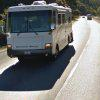Bus: (5, 4, 76, 60)
